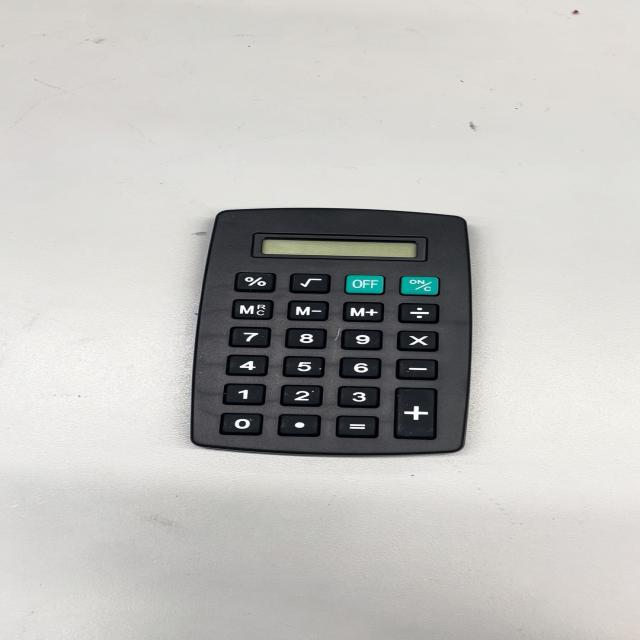calculator: (185, 202, 483, 460)
